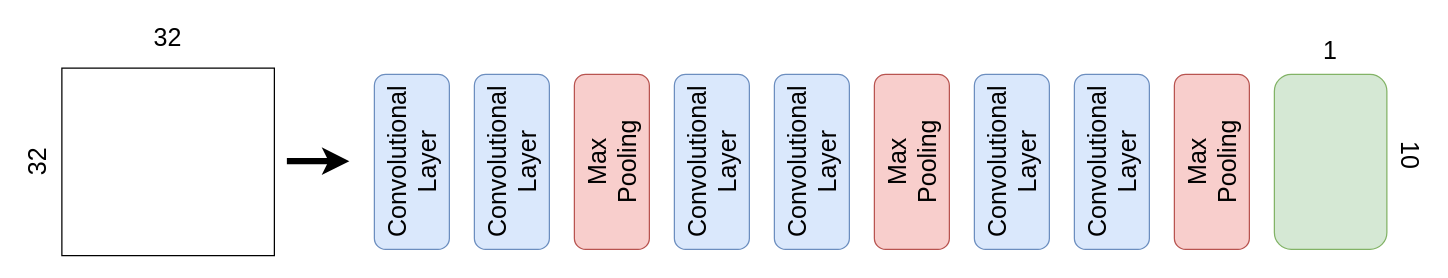
Some shapes in this 1448 by 278 pixel diagram are drawn without their labels. The shapes that lost their labels are listed below. From the top down, each one's centre as x and y in pixels, then its label:
At (167,161): "Input image".
At (1330,161): "Fully-Connected Layer".
